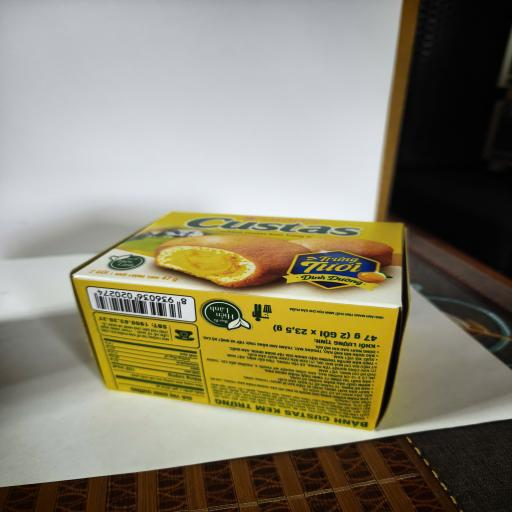custas: (70, 210, 412, 431)
